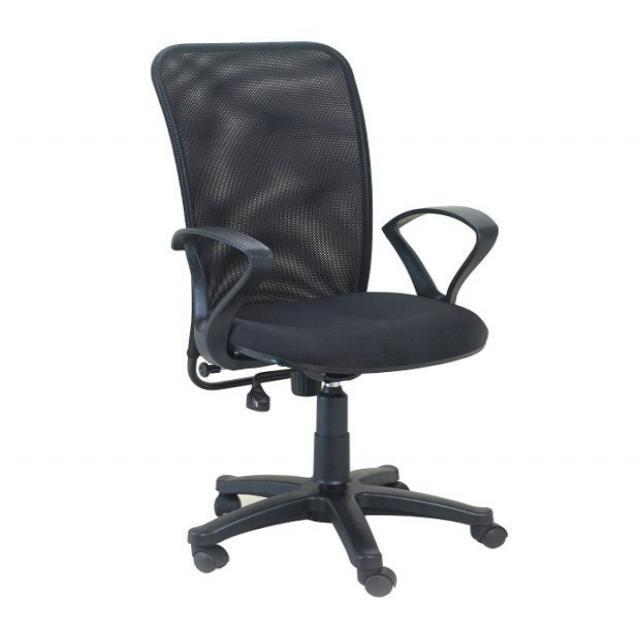chair: (117, 9, 572, 640)
